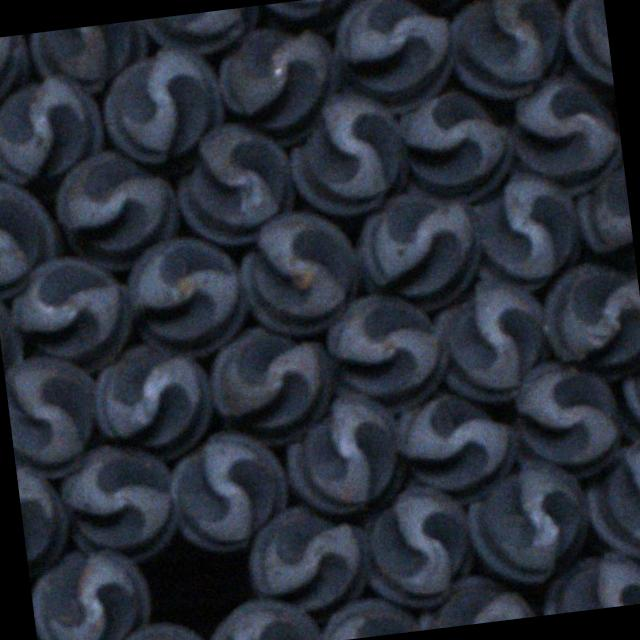tool_b: (458, 451, 596, 590), (351, 181, 485, 319), (120, 226, 254, 364), (202, 317, 337, 453), (282, 82, 413, 222), (280, 384, 410, 522), (166, 117, 300, 250), (210, 18, 342, 152), (234, 204, 364, 340), (352, 474, 477, 615), (318, 284, 452, 415), (162, 426, 293, 560), (50, 146, 184, 276), (3, 248, 135, 378), (392, 382, 524, 509), (97, 41, 226, 170), (52, 438, 181, 564), (324, 0, 460, 119), (242, 496, 372, 620), (506, 352, 626, 486), (466, 165, 586, 298), (88, 338, 215, 463), (397, 86, 522, 212), (432, 278, 554, 406), (508, 73, 626, 201), (444, 0, 571, 106), (535, 260, 640, 388), (2, 350, 102, 482), (0, 67, 107, 189), (26, 542, 157, 640), (30, 19, 152, 98), (572, 162, 638, 286), (412, 568, 540, 630), (580, 435, 640, 566), (0, 176, 63, 298), (536, 542, 640, 615), (202, 592, 321, 640)
void: (137, 526, 259, 640)
